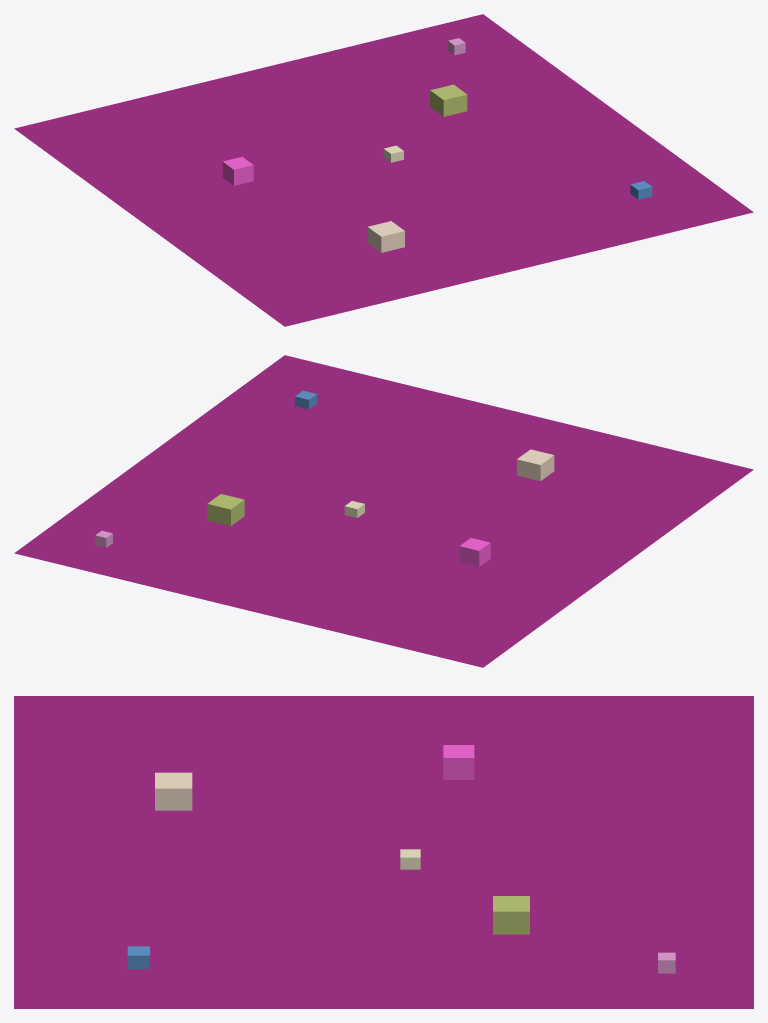
3 views of the same model, one above another, from view 1: azimuth 30°, elevation 25°; view 2: azimuth 150°, elevation 25°; view 3: azimuth 270°, elevation 25° (orthographic). The views are drawn at different scales.
Visible parts, largest first — view 1: Chunk_-2_1; view 2: Chunk_-2_1; view 3: Chunk_-2_1.
Boxes of the visible parts, <box> form: Chunk_-2_1: <box>14,14,753,326</box>; Chunk_-2_1: <box>14,355,753,667</box>; Chunk_-2_1: <box>14,696,753,1008</box>.
Size of the model in its own units: 1500 by 77.68 by 1500.
